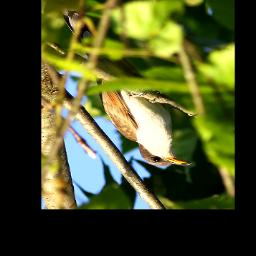Cuckoo: (58, 6, 195, 171)
